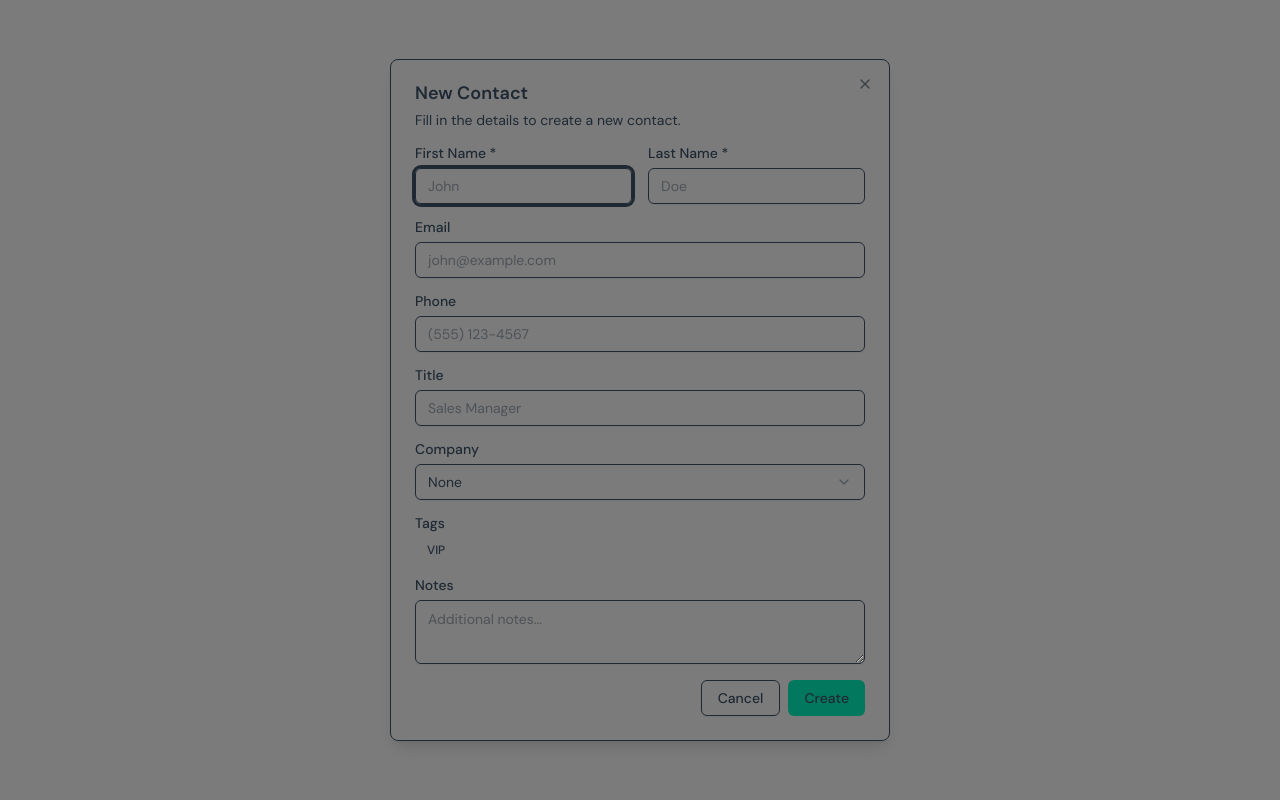
Test: ContactFormDialog › shows validation errors when required fields are missing
Click the button "Create". click: click(827, 698)
box: [788,680,865,716]
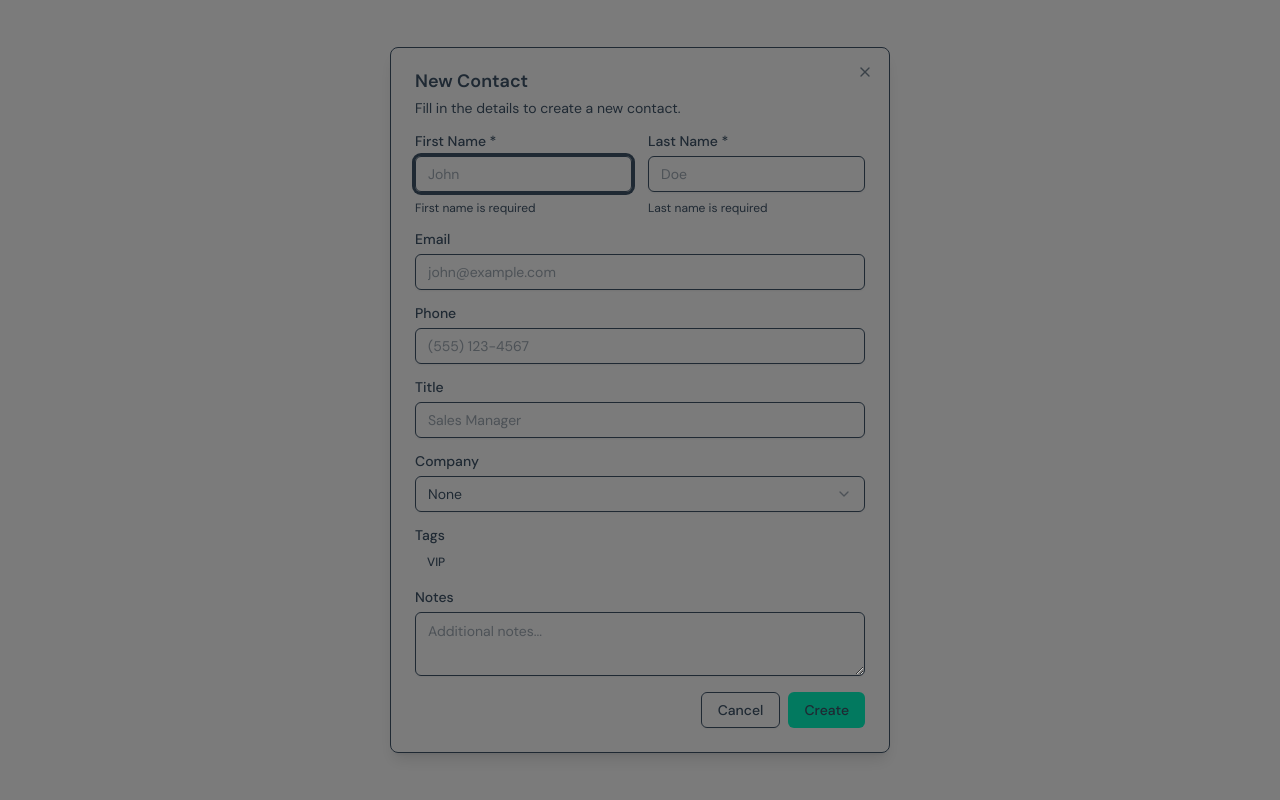
Now the text "First name is required" is shown, box [415,200,536,216]
Now the text "Last name is required" is shown, box [648,200,768,216]
